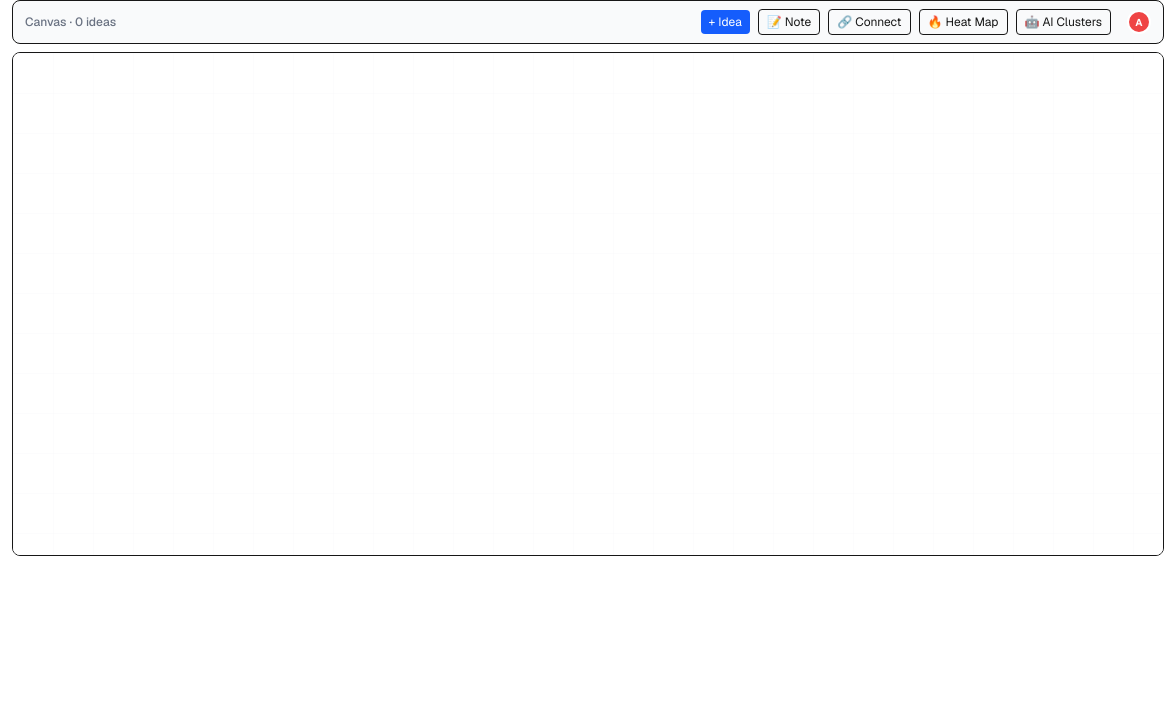
Test: CollaborativeCanvas › adds an idea card when clicking + Idea
Click the button "+ Idea" at (725, 22), box [701,10,750,34]
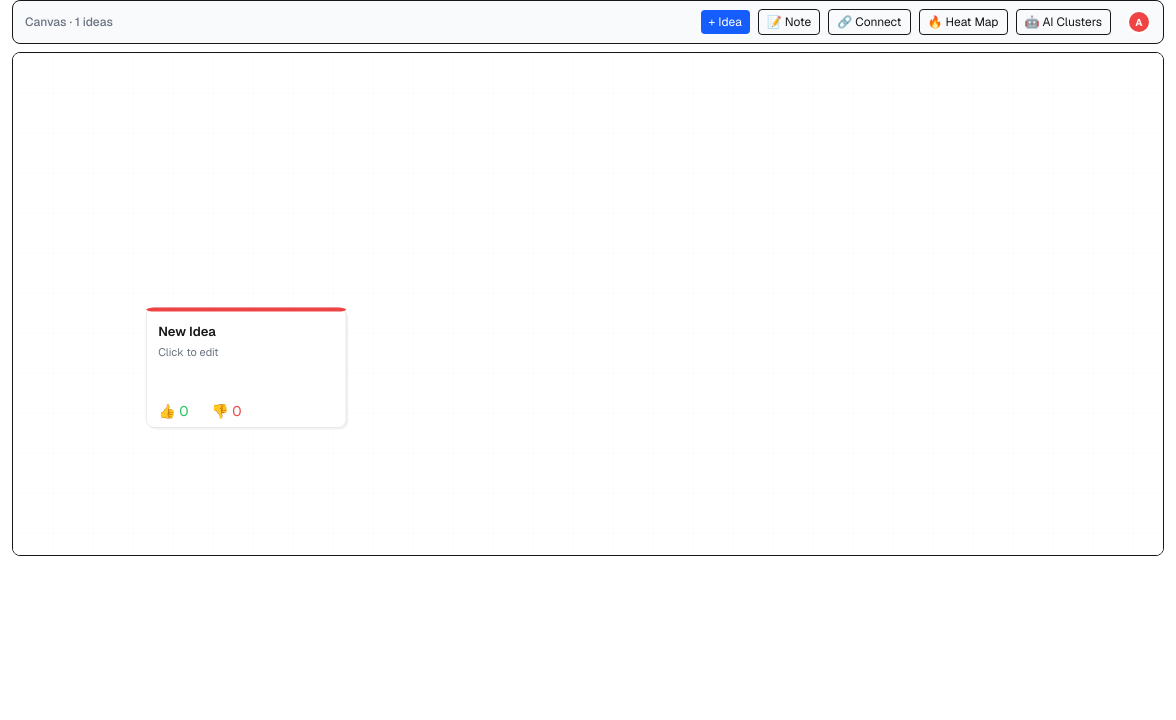
Expected: the text "Canvas · 1 ideas" is shown, [25,14,113,30]
